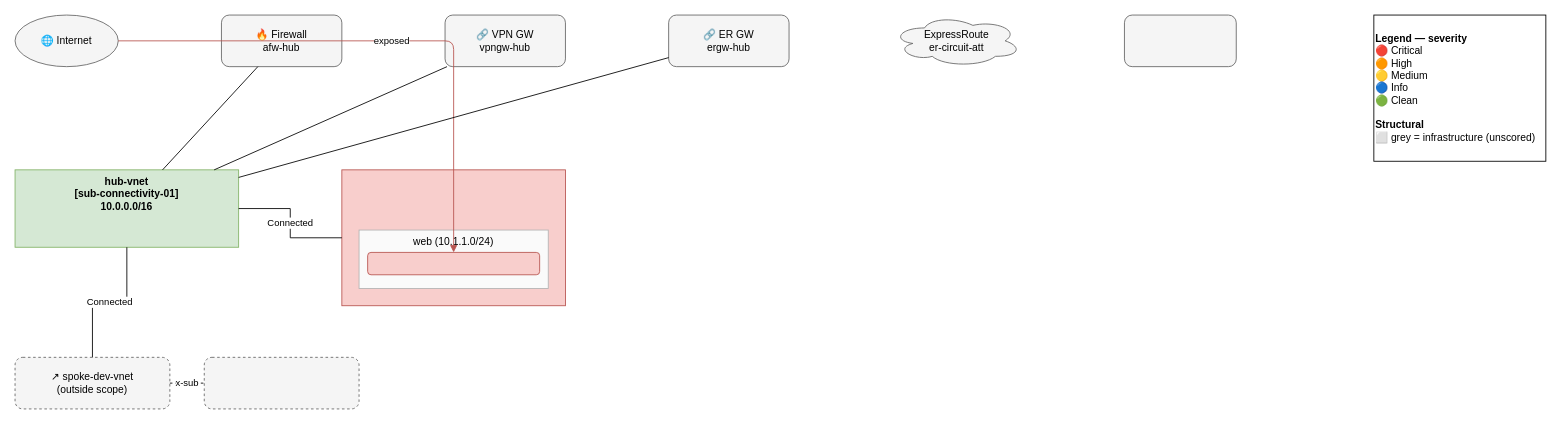
This 1561x424 diagram has some shape labels left out. The box of each missing label's shape, as (x1, y1, x2, y2) in pixels:
spoke-prod-vnet [sub-prod-01] 10.1.0.0/16: (341, 169, 565, 306)
↗ remote-shared-vnet (outside scope): (203, 356, 359, 409)
🔗 NAT GW natgw-prod: (1124, 14, 1236, 67)
🔴 nic-prod-web pip-prod-web: (367, 252, 540, 275)
